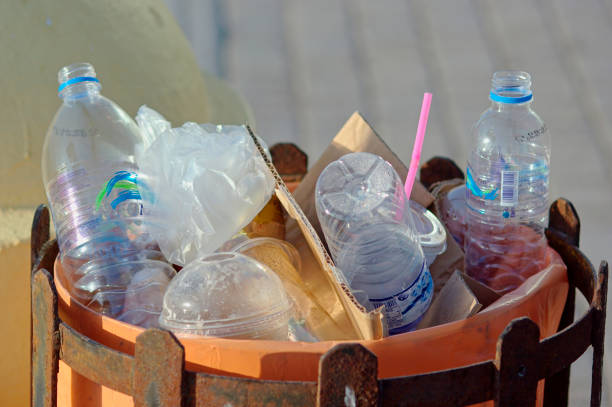paper: (236, 118, 393, 358)
plastic: (7, 43, 188, 353), (302, 148, 448, 338), (124, 92, 287, 262), (456, 65, 560, 305), (150, 248, 298, 347)
